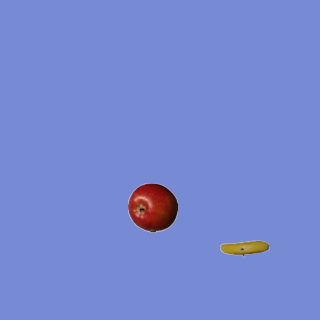Apple Braeburn: (127, 182, 177, 232)
Banana: (219, 223, 269, 273)
